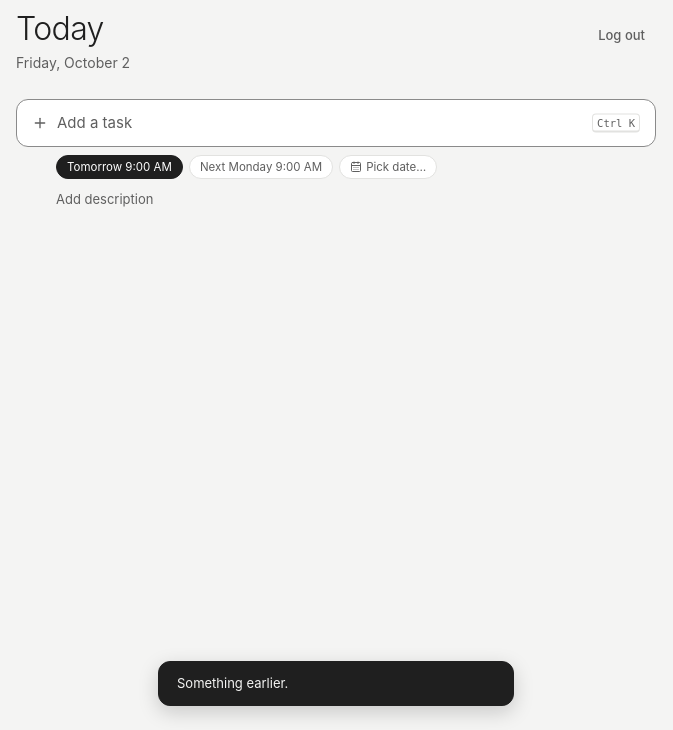
Scenario: log out › ends the session at once and revokes it with the old token
Expected: the number of list items is 1, [158,660,514,706]
What coordinates should you click on to do the following:
click the button "Log out"
I would click on:
 (622, 36)
Its box is [587,20,656,52].
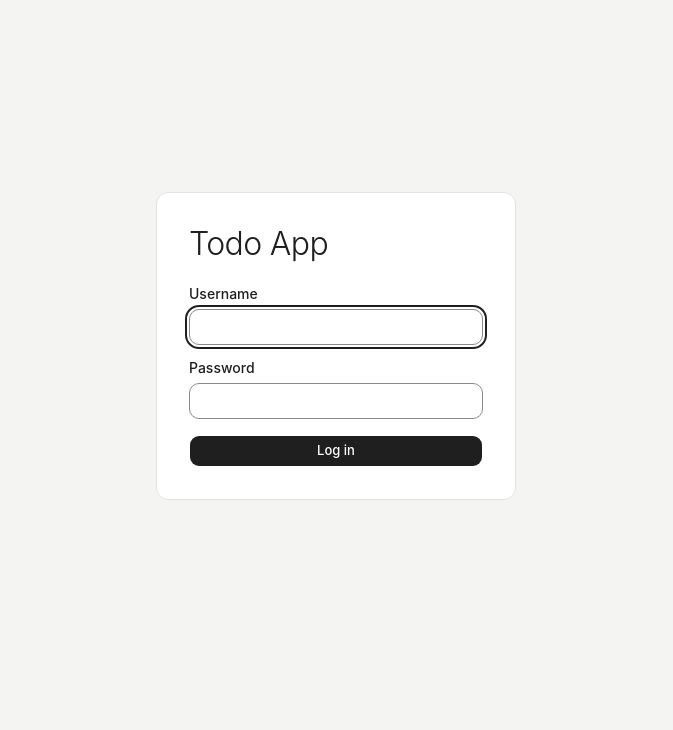
Result: the field named "username" is shown at [189,309,483,345]
